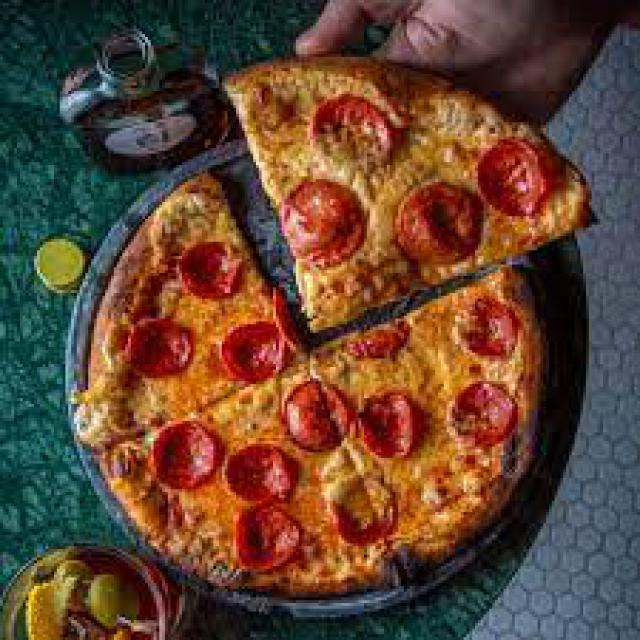pizza: (61, 49, 595, 608)
